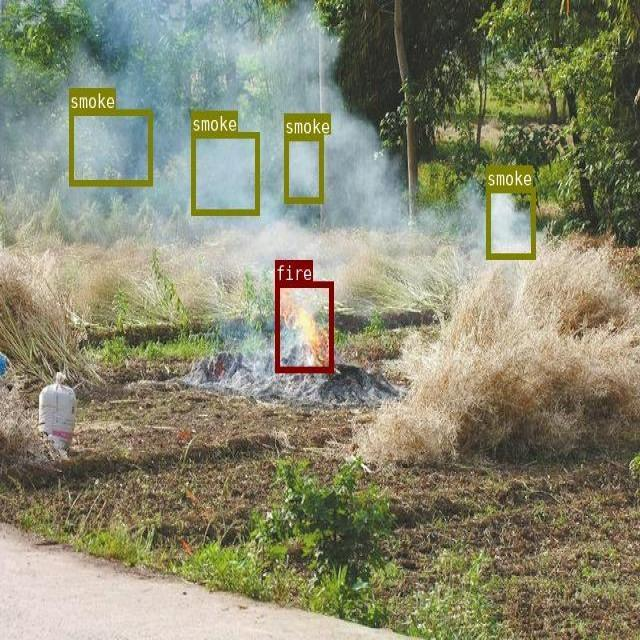fire: (275, 281, 332, 371)
smoke: (68, 108, 152, 184), (191, 131, 258, 215), (485, 186, 534, 258), (284, 134, 322, 202)
